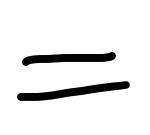eqv: (16, 50, 132, 103)
